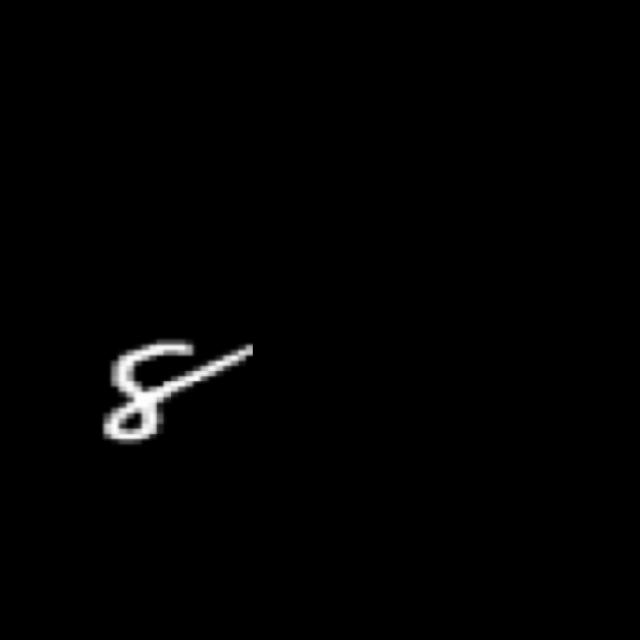eight -8-: (82, 330, 263, 454)
